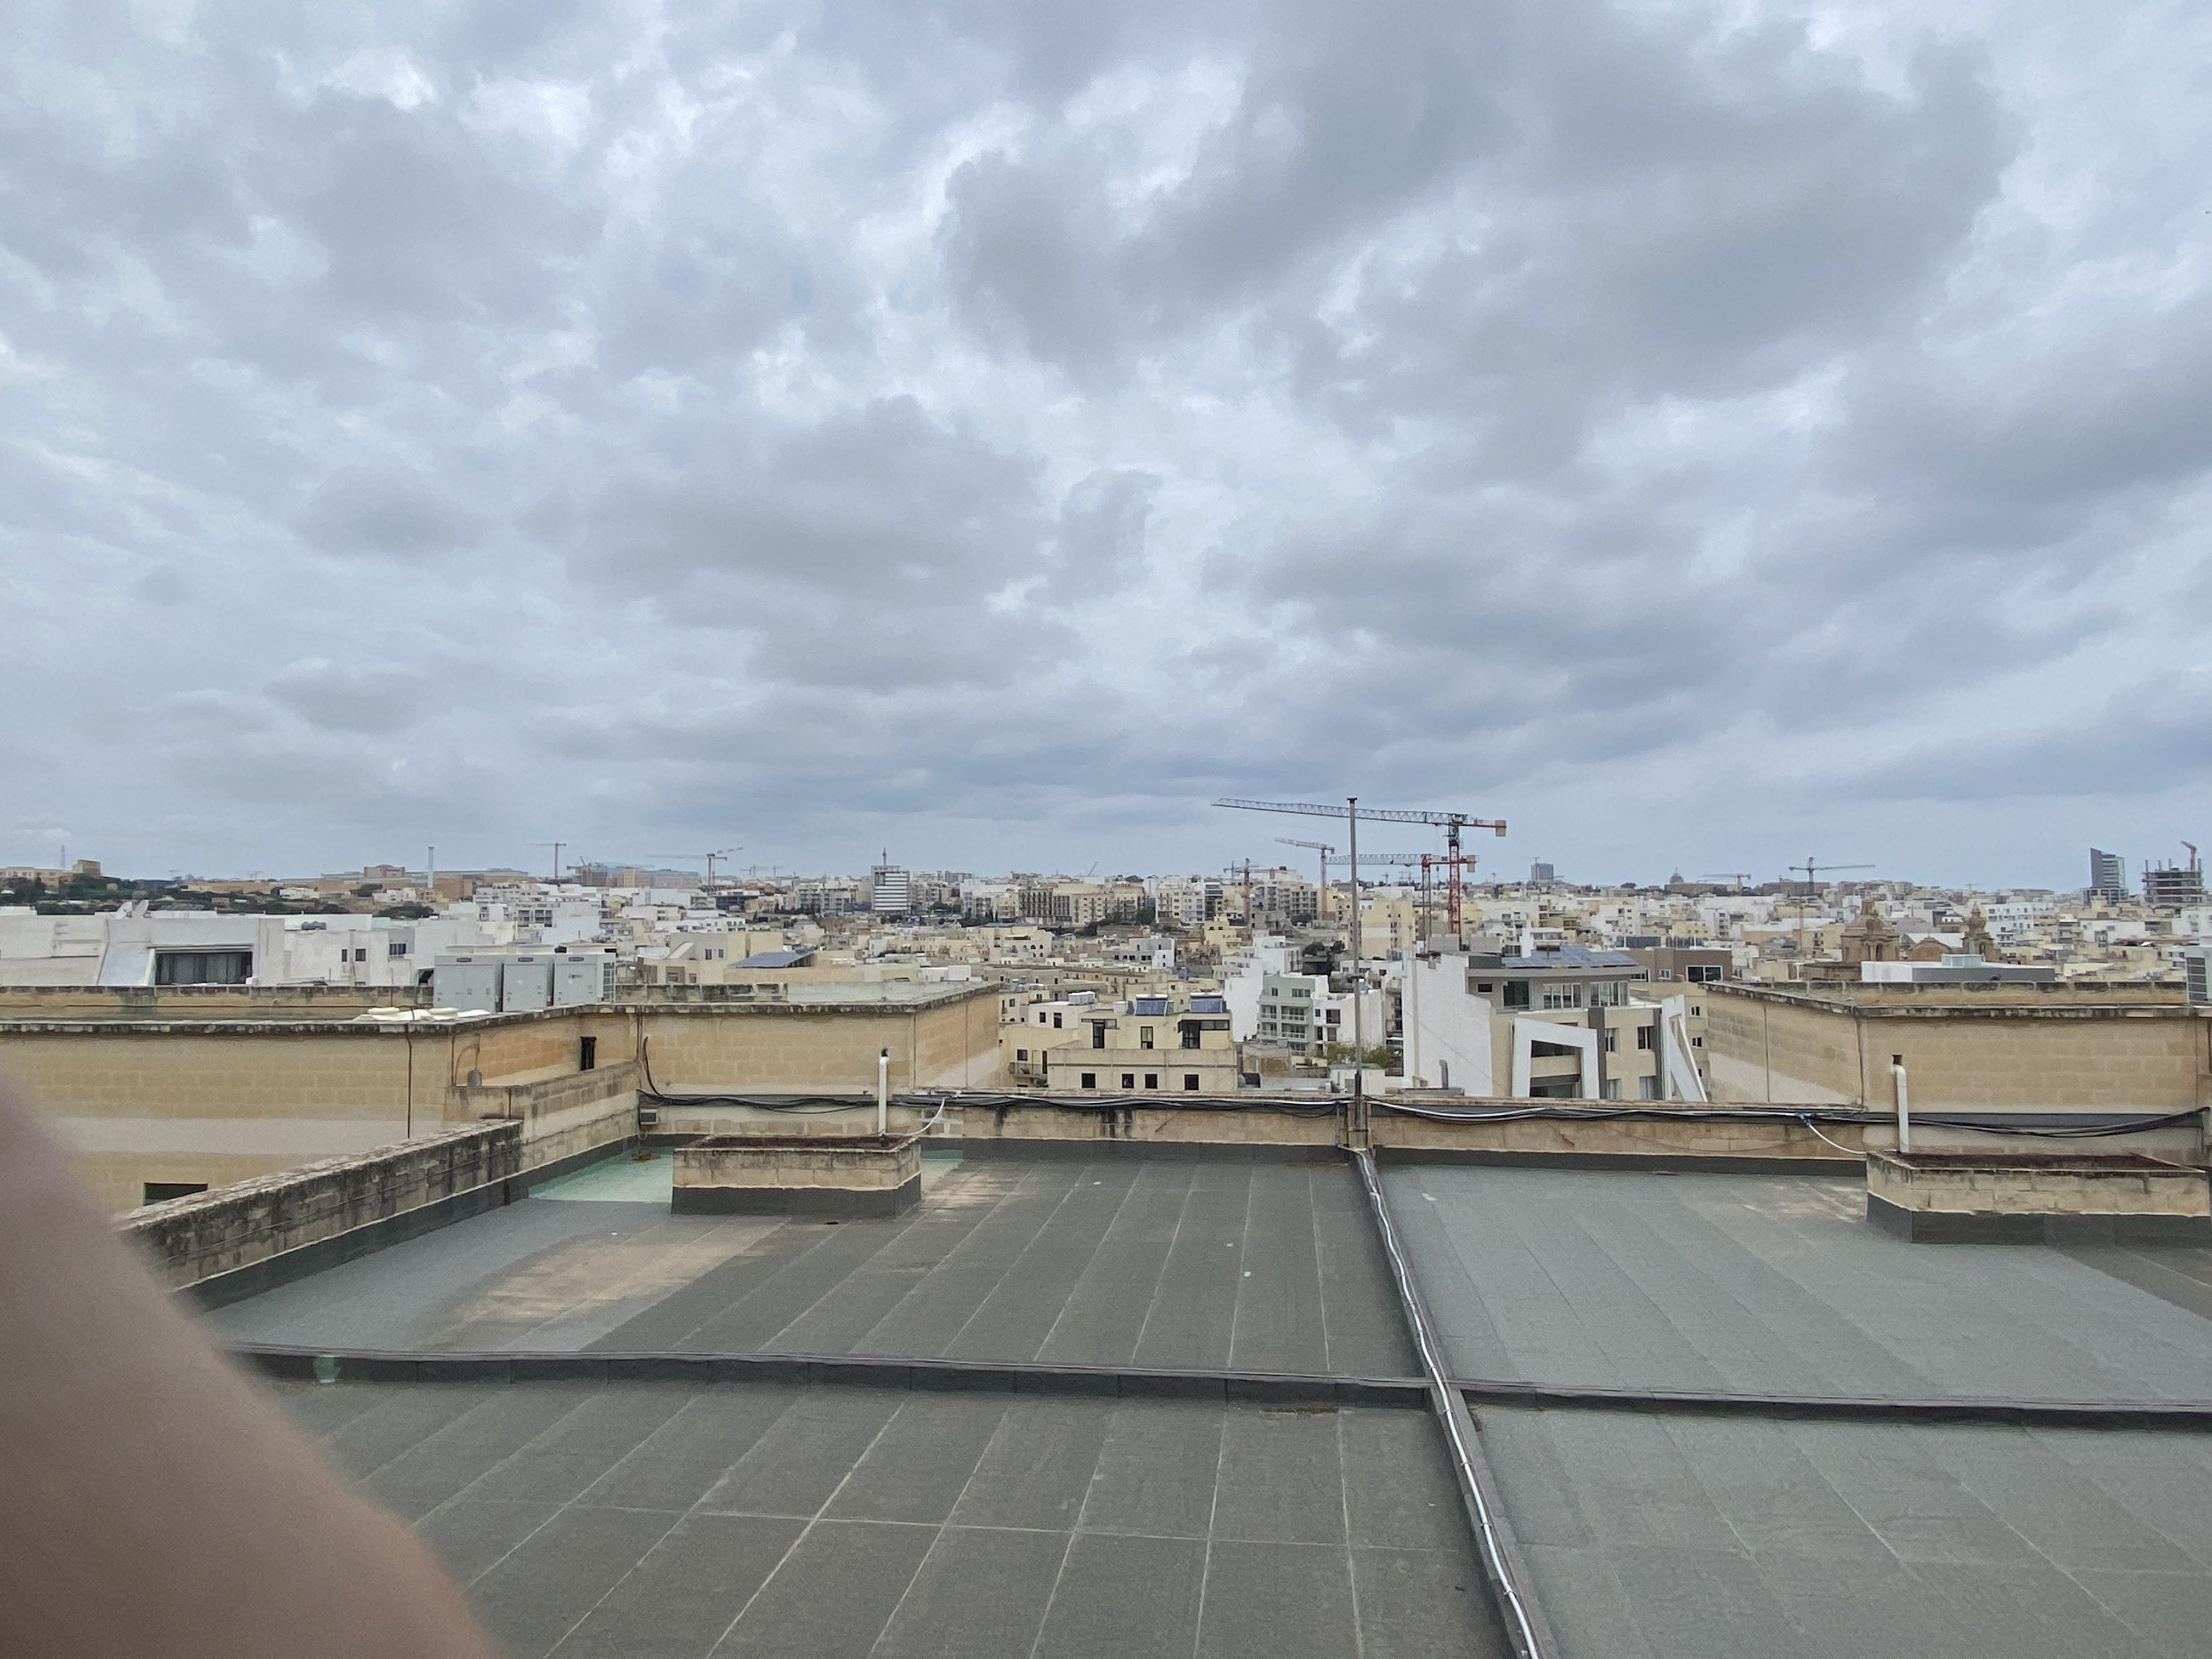crane: (1213, 759, 1544, 838), (1320, 842, 1503, 887)
